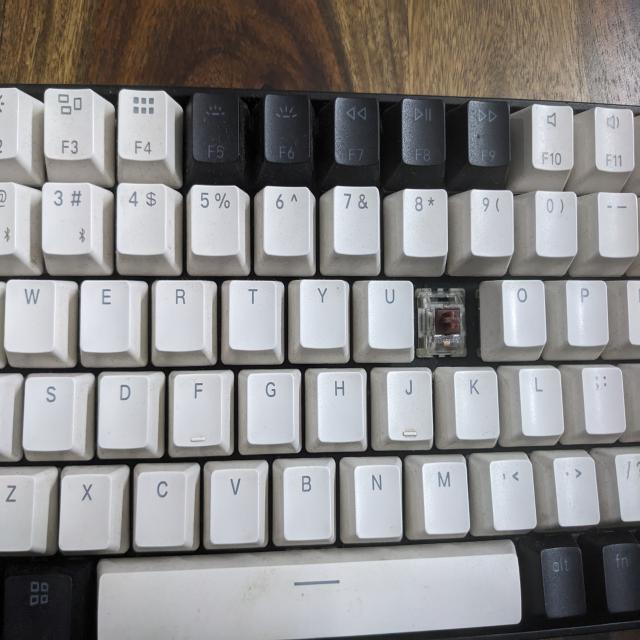C: (416, 284, 481, 351)
